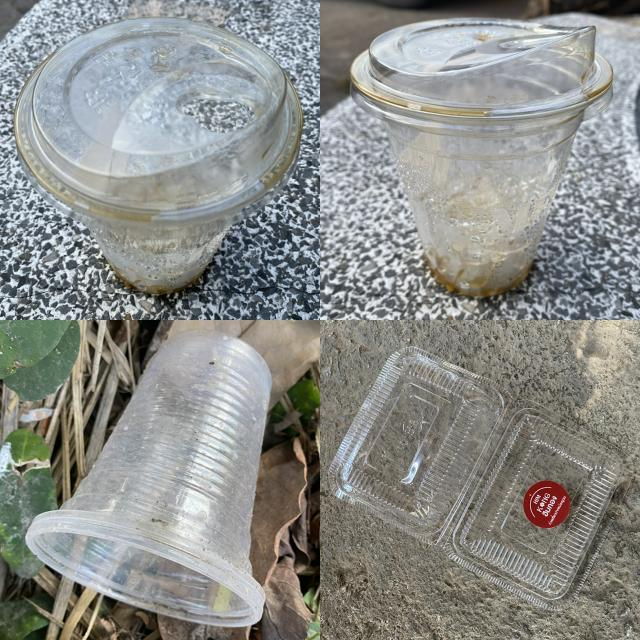Single-Use-Plastic: (15, 18, 302, 294), (329, 348, 632, 609), (26, 330, 271, 627), (351, 19, 612, 296)
